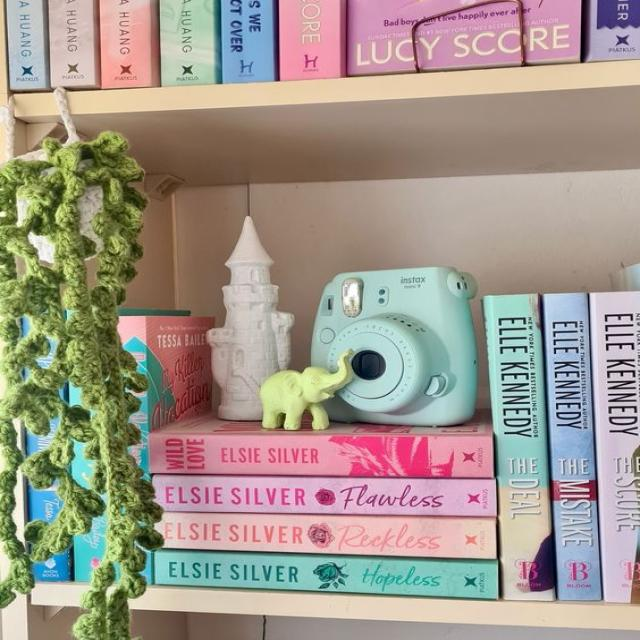book: (149, 413, 492, 478), (483, 293, 553, 600), (542, 293, 601, 600), (150, 549, 498, 598), (590, 292, 639, 601), (161, 512, 495, 557), (155, 477, 495, 516)
camera: (311, 266, 477, 426)
